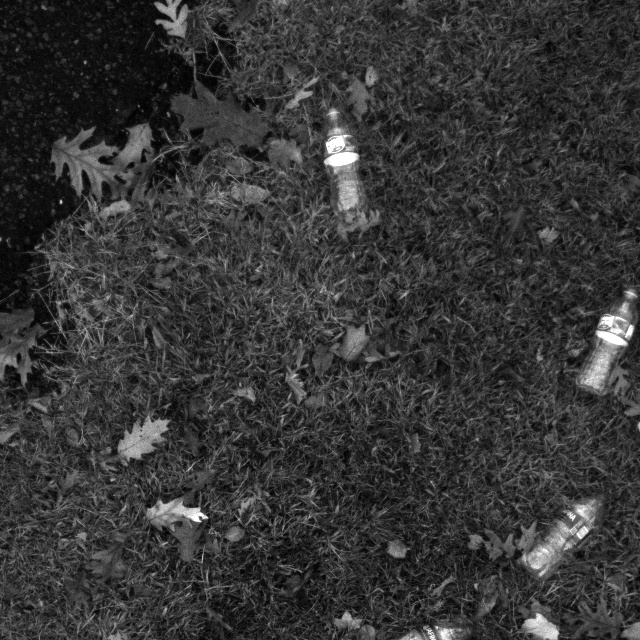bottle: (514, 482, 623, 581), (305, 98, 380, 224), (569, 273, 640, 401)
